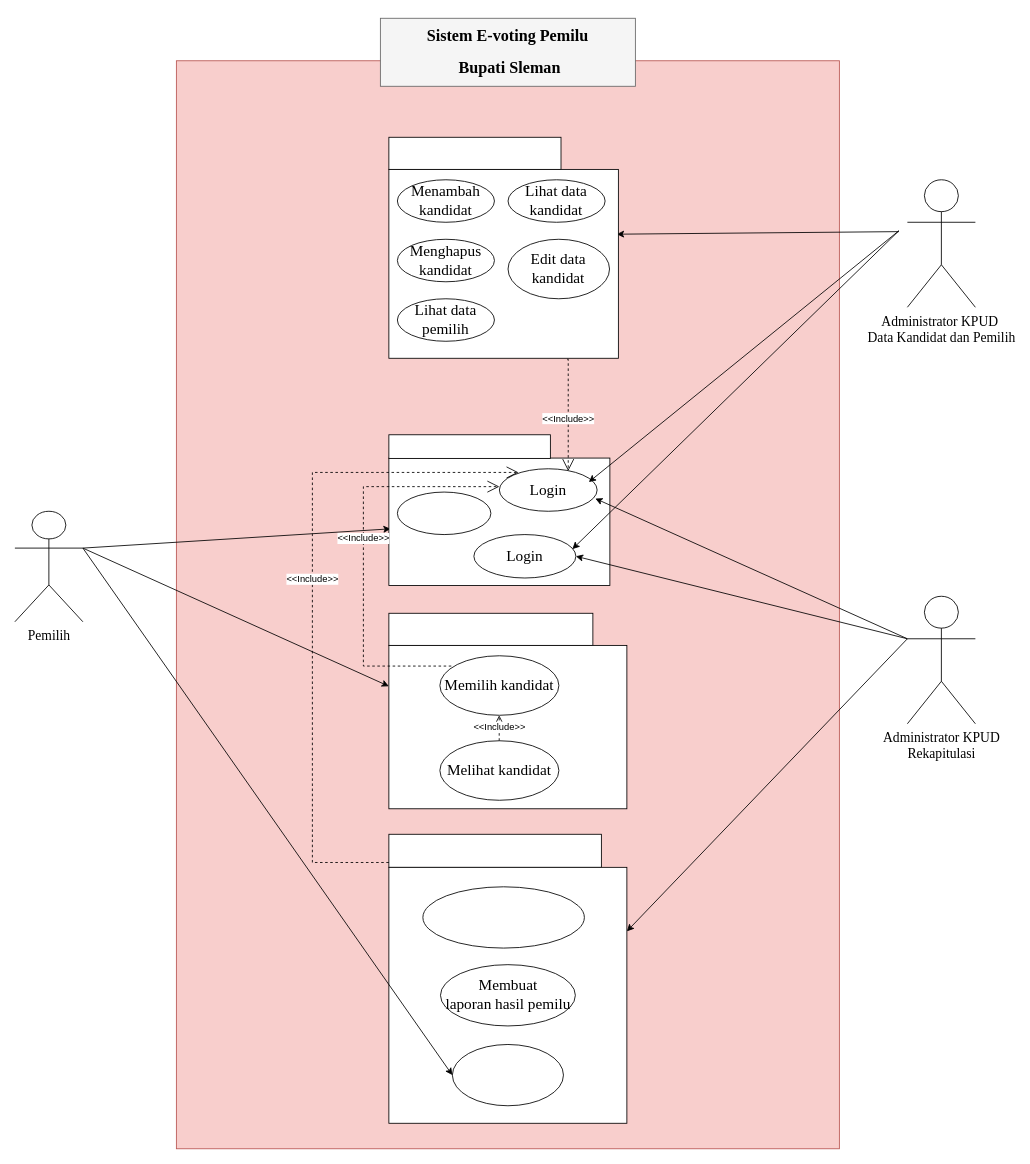
Some shapes in this 1030 by 1164 pixel diagram are drawn without their labels. Here are the shapes that lost their labels. From the top down, the centre of each, then its label:
the point at 474,152: Subsistem Kelola KPUD
the point at 469,446: Subsistem Autentikasi
the point at 444,513: Registrasi
the point at 490,628: Subsistem Pemungutan Suara
the point at 494,850: Subsistem Rekapitulasi Suara
the point at 503,917: Melakukan verifikasi rekapitulasi
the point at 507,1075: Melihat hasil rekapitulasi
